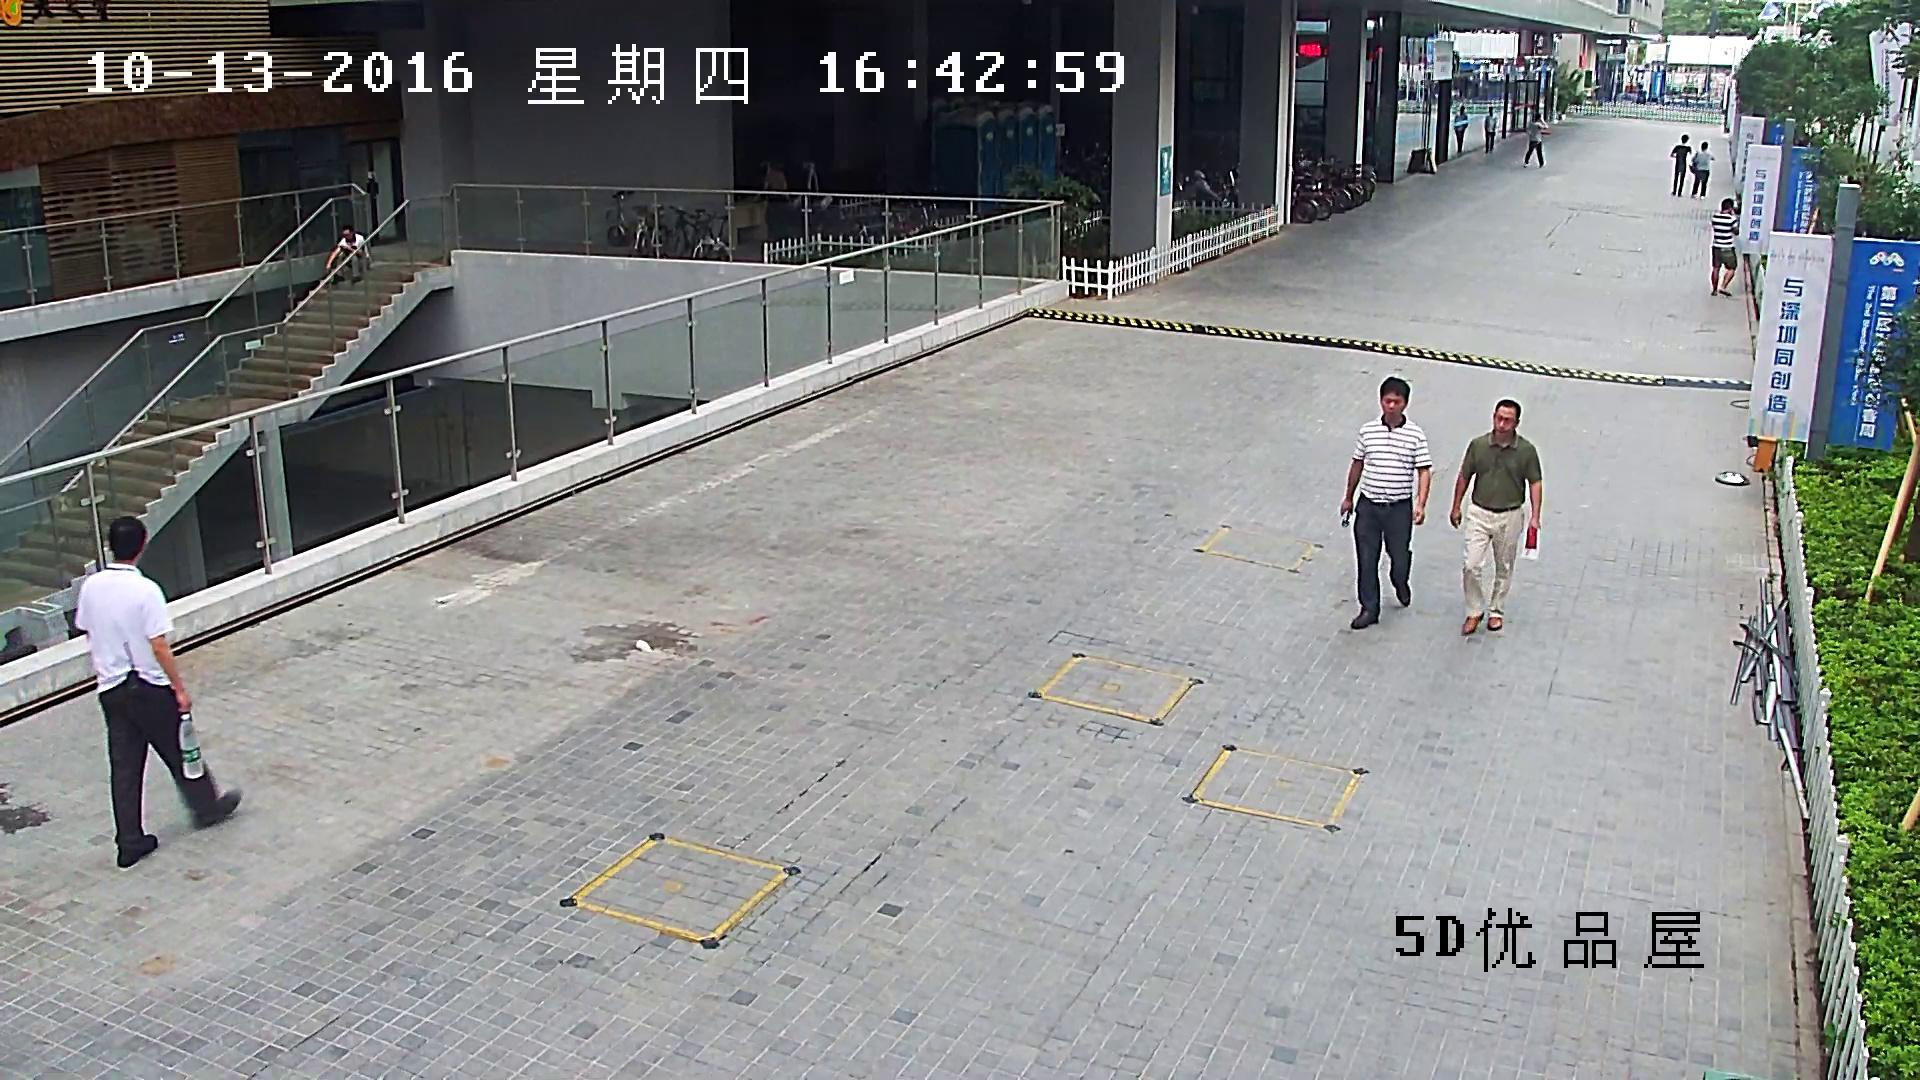person: (74, 515, 242, 867), (1340, 376, 1432, 629), (1450, 399, 1542, 635), (325, 225, 373, 283), (1711, 198, 1739, 296), (1689, 141, 1715, 196), (1670, 134, 1691, 198), (1524, 113, 1548, 167), (1454, 105, 1468, 152), (1485, 107, 1496, 153)
